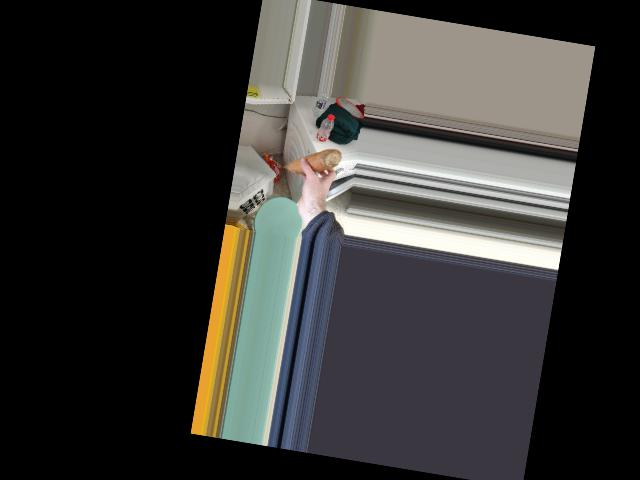sweet_potato: (286, 140, 340, 184)
